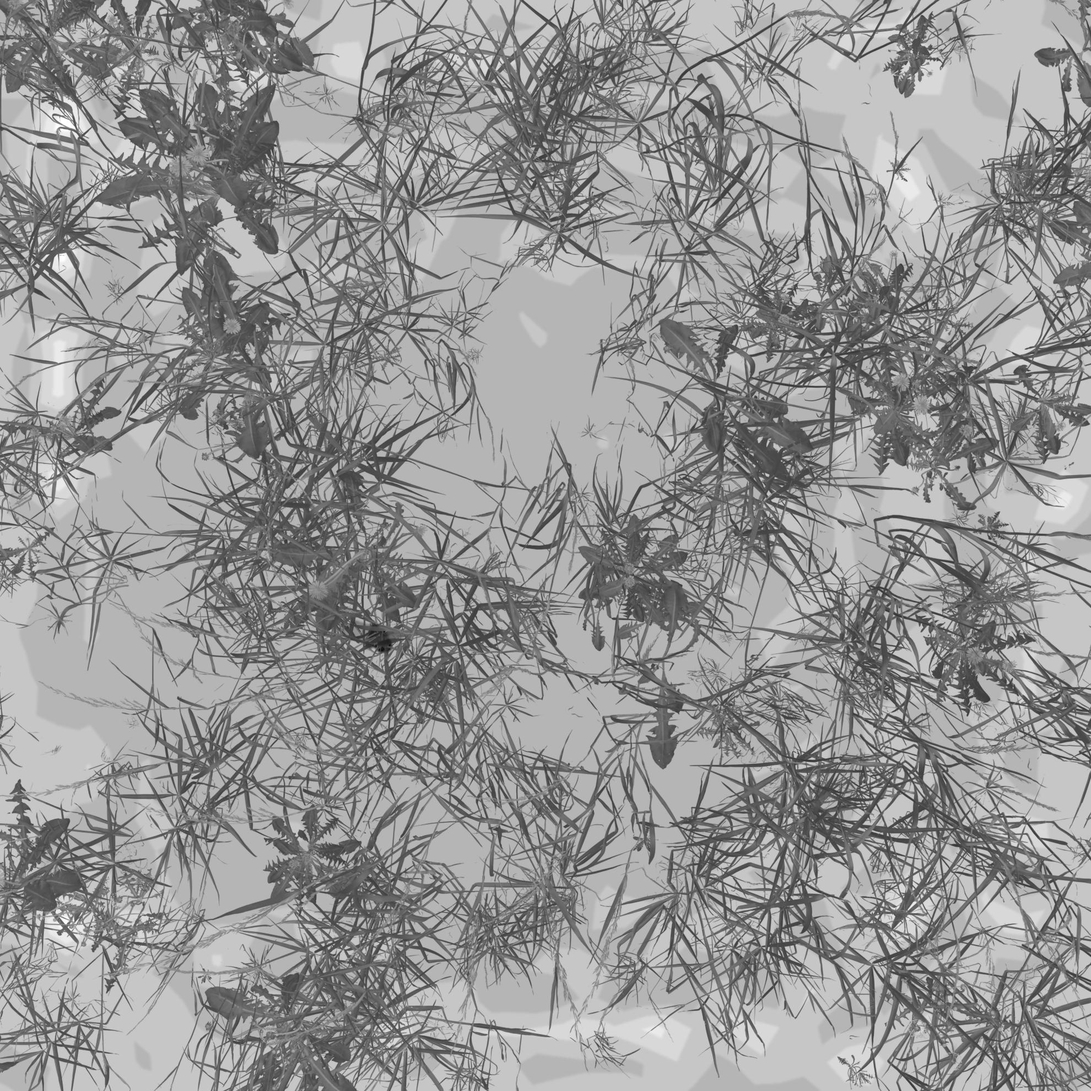landmine: (342, 622, 394, 660)
